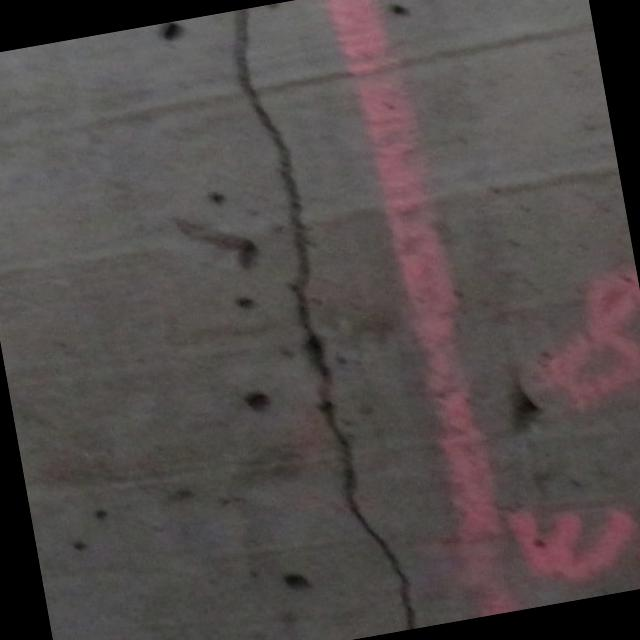crack: (216, 0, 422, 640)
